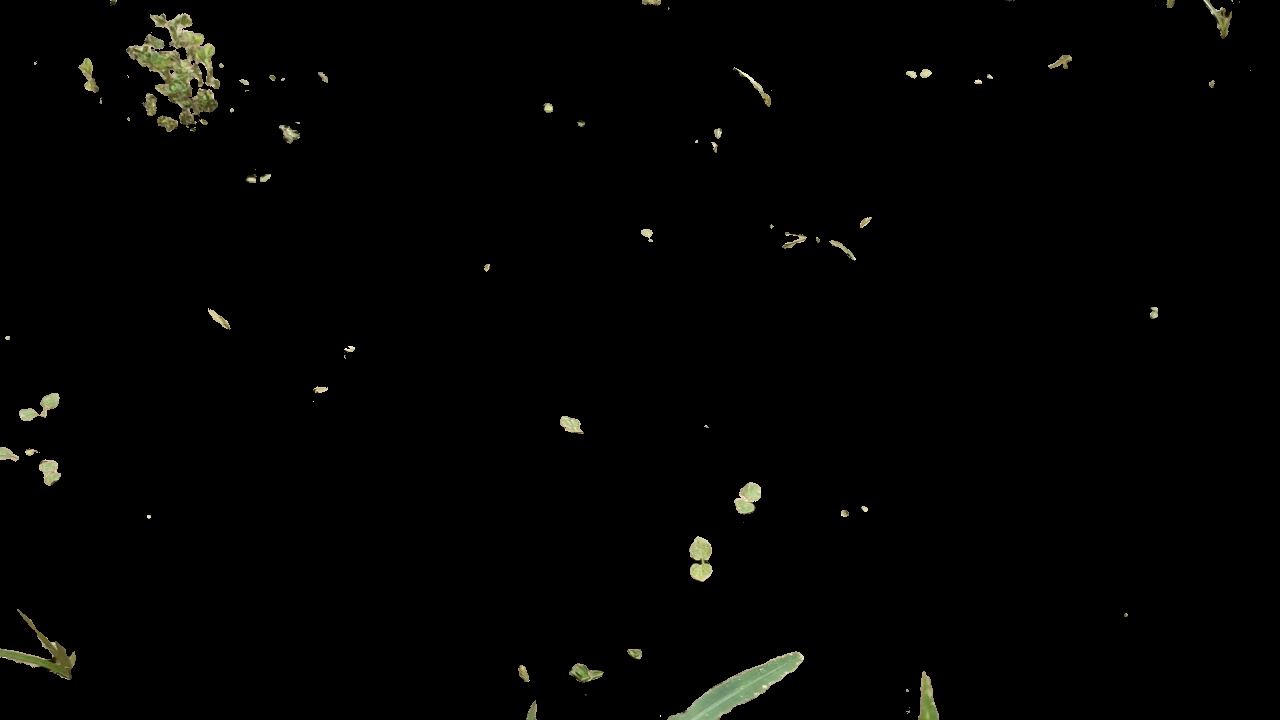crop: (505, 601, 845, 720)
weed: (69, 9, 245, 137), (1, 591, 93, 698), (1170, 1, 1266, 45), (678, 534, 722, 579), (562, 659, 609, 691), (25, 455, 71, 484), (738, 469, 763, 518), (626, 218, 663, 249), (235, 165, 286, 187), (15, 399, 71, 419), (555, 408, 591, 438), (898, 67, 936, 84)
